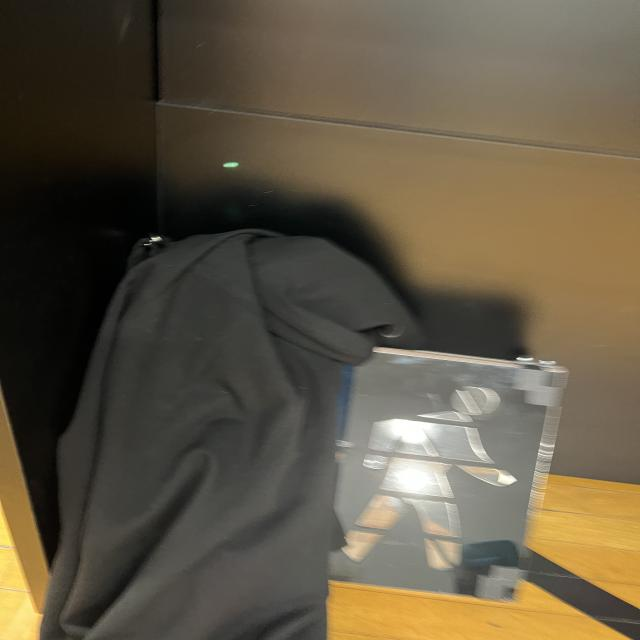go: (327, 361, 563, 599)
